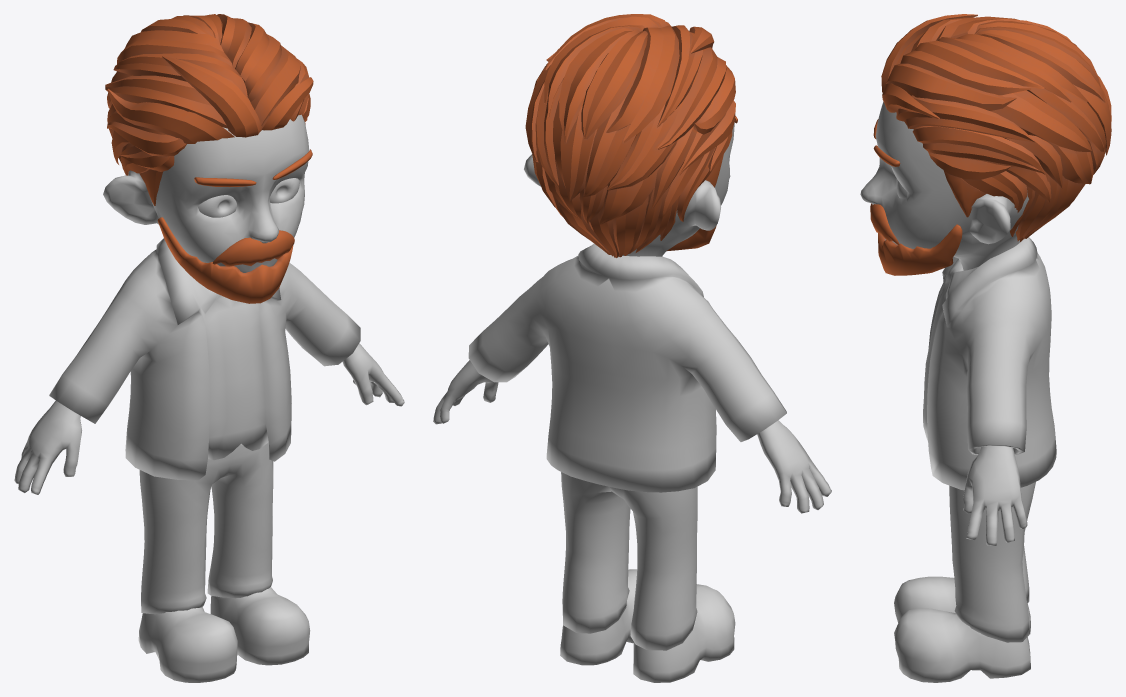
Rendered from gogh_A.fbx.
The picture shows the model from 3 angles, left to right: view 1: azimuth 30°, elevation 25°; view 2: azimuth 150°, elevation 25°; view 3: azimuth 270°, elevation 25°; orthographic projection. The views are drawn at different scales.
Visible parts, largest first — view 1: Van Gogh_version01_body, Van Gogh_version01_hair, Van Gogh_version01_face, Van Gogh_version01_bread; view 2: Van Gogh_version01_body, Van Gogh_version01_hair, Van Gogh_version01_face; view 3: Van Gogh_version01_body, Van Gogh_version01_hair, Van Gogh_version01_face, Van Gogh_version01_bread.
Part boxes in pixels (left/top/right/bottom): Van Gogh_version01_body: left=14, top=238, right=404, bottom=682; Van Gogh_version01_hair: left=105, top=14, right=313, bottom=205; Van Gogh_version01_face: left=103, top=114, right=309, bottom=272; Van Gogh_version01_bread: left=157, top=149, right=312, bottom=303; Van Gogh_version01_body: left=433, top=243, right=831, bottom=682; Van Gogh_version01_hair: left=525, top=14, right=735, bottom=257; Van Gogh_version01_face: left=524, top=123, right=734, bottom=256; Van Gogh_version01_body: left=894, top=237, right=1056, bottom=682; Van Gogh_version01_hair: left=881, top=14, right=1111, bottom=241; Van Gogh_version01_face: left=860, top=101, right=1028, bottom=270; Van Gogh_version01_bread: left=870, top=119, right=962, bottom=275.
Size of the model in its own units: 169 by 264 by 96.54.
